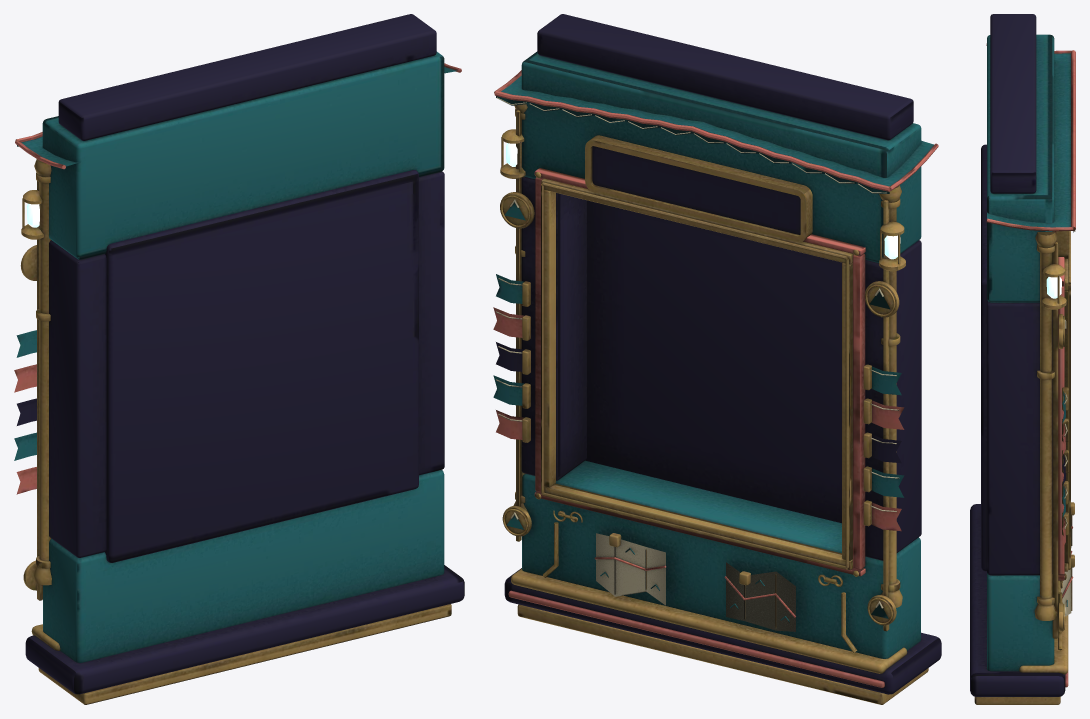
3 views of the same model, side by side, from view 1: azimuth 30°, elevation 25°; view 2: azimuth 150°, elevation 25°; view 3: azimuth 270°, elevation 25° (orthographic). The views are drawn at different scales.
Parts seen in each view (by area): view 1: Violet_depth, Teal_woven_canvas, Trail_brass, Coral_woven_bindings; view 2: Violet_depth, Teal_woven_canvas, Trail_brass, Coral_woven_bindings, Warm_folded_route_paper; view 3: Violet_depth, Teal_woven_canvas, Trail_brass, Coral_woven_bindings, Warm_folded_route_paper, Trail_beacon_glow.
Part boxes in pixels (bbox=[...]): Violet_depth: bbox=[17, 14, 464, 694]; Teal_woven_canvas: bbox=[14, 51, 457, 662]; Trail_brass: bbox=[20, 159, 451, 704]; Coral_woven_bindings: bbox=[14, 63, 461, 494]; Violet_depth: bbox=[496, 14, 941, 694]; Teal_woven_canvas: bbox=[493, 51, 933, 658]; Trail_brass: bbox=[500, 104, 928, 704]; Coral_woven_bindings: bbox=[493, 70, 938, 687]; Warm_folded_route_paper: bbox=[496, 97, 899, 631]; Violet_depth: bbox=[970, 14, 1065, 696]; Teal_woven_canvas: bbox=[987, 34, 1073, 671]; Trail_brass: bbox=[974, 231, 1074, 704]; Coral_woven_bindings: bbox=[986, 43, 1075, 687]; Warm_folded_route_paper: bbox=[1061, 231, 1075, 616]; Trail_beacon_glow: bbox=[1046, 277, 1061, 298].
Size of the model in its own units: 5.95 by 8 by 1.45.
6 materials, 5 textured.
